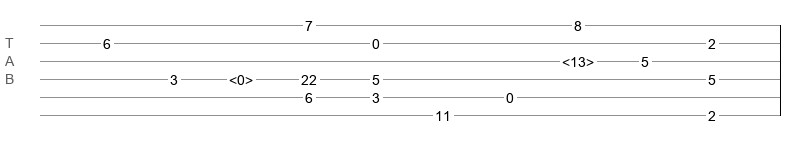0: (372, 36, 380, 46), (506, 90, 514, 100)
11: (435, 108, 451, 118)
2: (708, 108, 716, 118), (708, 36, 716, 46)
22: (301, 72, 317, 82)
3: (170, 72, 178, 82), (372, 90, 380, 100)
5: (372, 72, 380, 82), (641, 54, 649, 64), (708, 72, 716, 82)
6: (103, 36, 111, 46), (305, 90, 313, 100)
7: (305, 18, 313, 28)
8: (574, 18, 582, 28)
harmonic: (562, 54, 594, 64), (229, 72, 253, 82)
